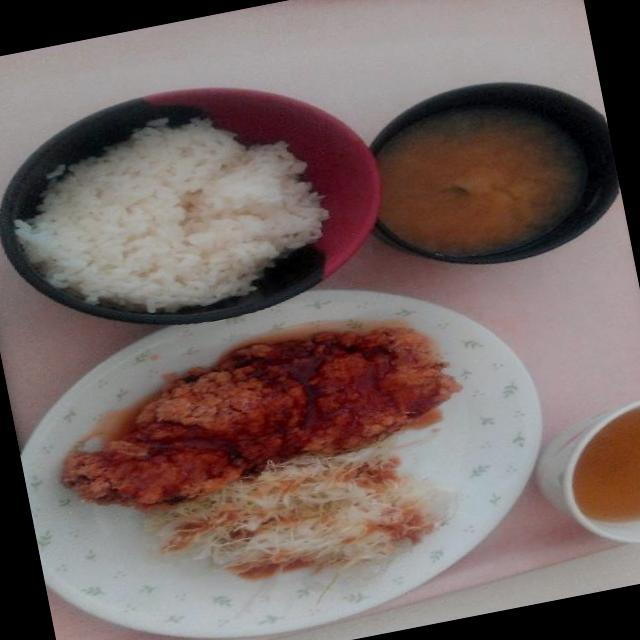Rice: (0, 65, 368, 345)
